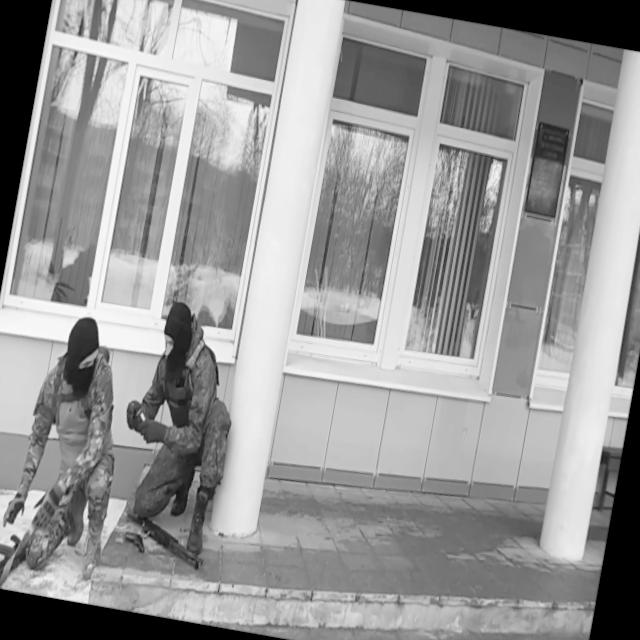gun: (116, 500, 215, 574), (0, 522, 33, 592), (120, 528, 148, 554)
person: (0, 306, 142, 582), (104, 296, 252, 560)
